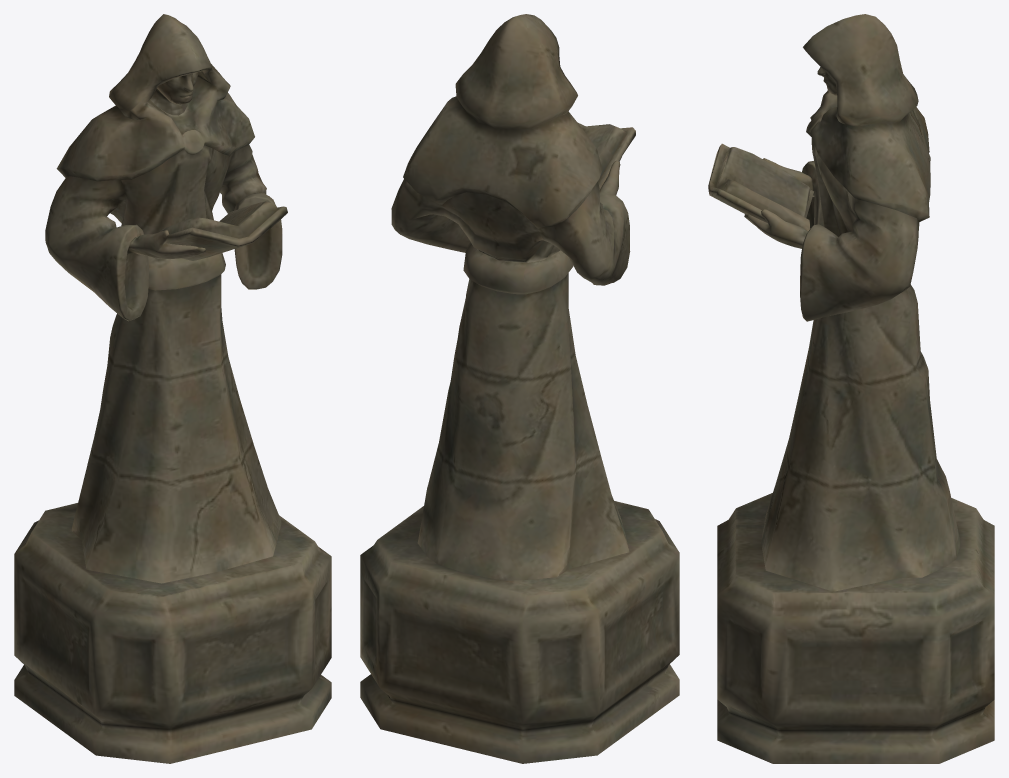
Rendered from Niflheim_Mage_Statue.glb.
3 renders of one model, left to right at view 1: azimuth 30°, elevation 25°; view 2: azimuth 150°, elevation 25°; view 3: azimuth 270°, elevation 25°, orthographic.
Visible parts, largest first — view 1: Body_low, Book_low, Head_low; view 2: Body_low, Book_low; view 3: Body_low, Book_low.
Part boxes in pixels (box(x1,y1,x2,y2)): Body_low: box(14, 14, 331, 763); Book_low: box(160, 201, 287, 260); Head_low: box(150, 72, 198, 115); Body_low: box(360, 14, 679, 763); Book_low: box(577, 122, 635, 189); Body_low: box(717, 14, 994, 763); Book_low: box(708, 143, 813, 231).
Bounding box in the file's own units: 1.41 × 3.89 × 1.46.
Materials: 1 (1 with a texture image).
